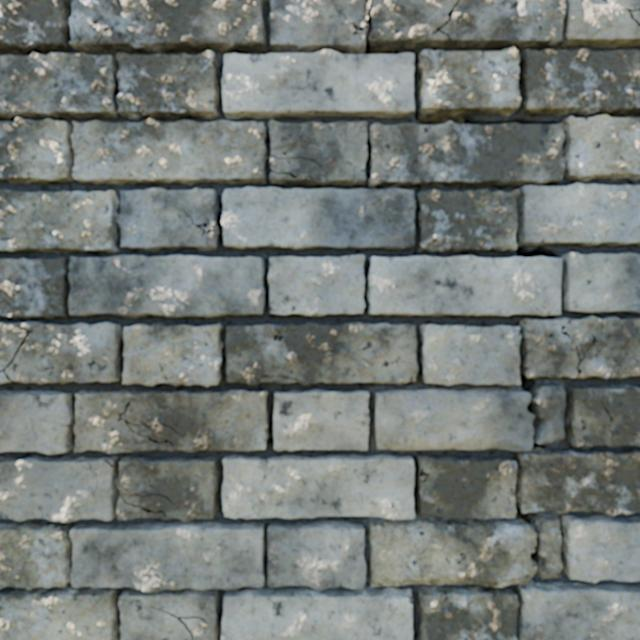broken_brick: (369, 520, 536, 587), (374, 388, 534, 451), (534, 384, 565, 443), (536, 514, 562, 578)
crack: (222, 0, 639, 639), (0, 455, 413, 639), (0, 0, 367, 186), (0, 389, 268, 454), (0, 255, 264, 318), (0, 188, 220, 254), (0, 321, 222, 386), (222, 454, 414, 520), (225, 321, 418, 385), (221, 187, 415, 249), (273, 389, 369, 450), (268, 255, 364, 316), (565, 384, 639, 448)
